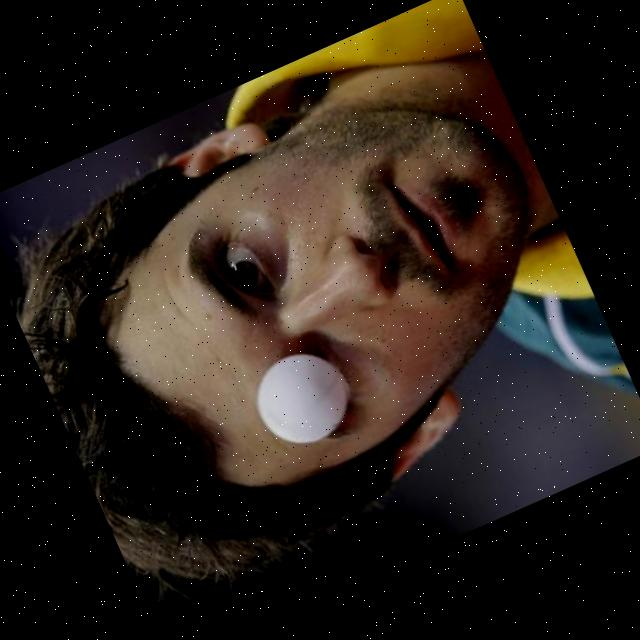ping-pong-ball: (242, 338, 363, 459)
